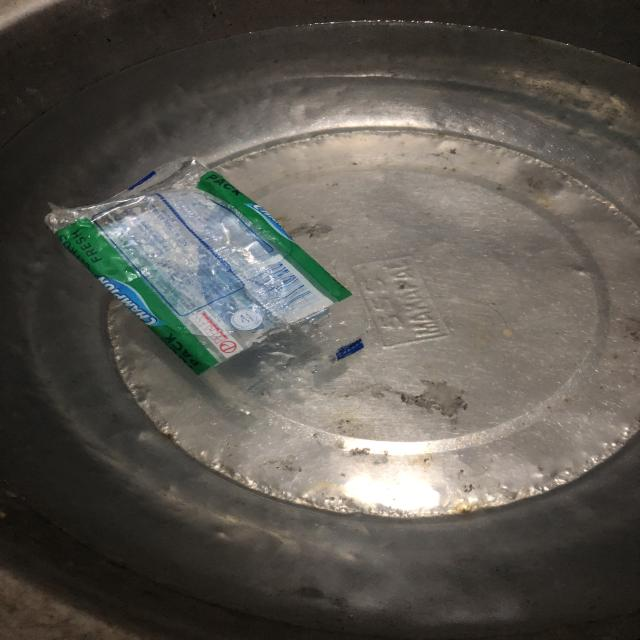Plastic Wrapper: (6, 151, 370, 393)
